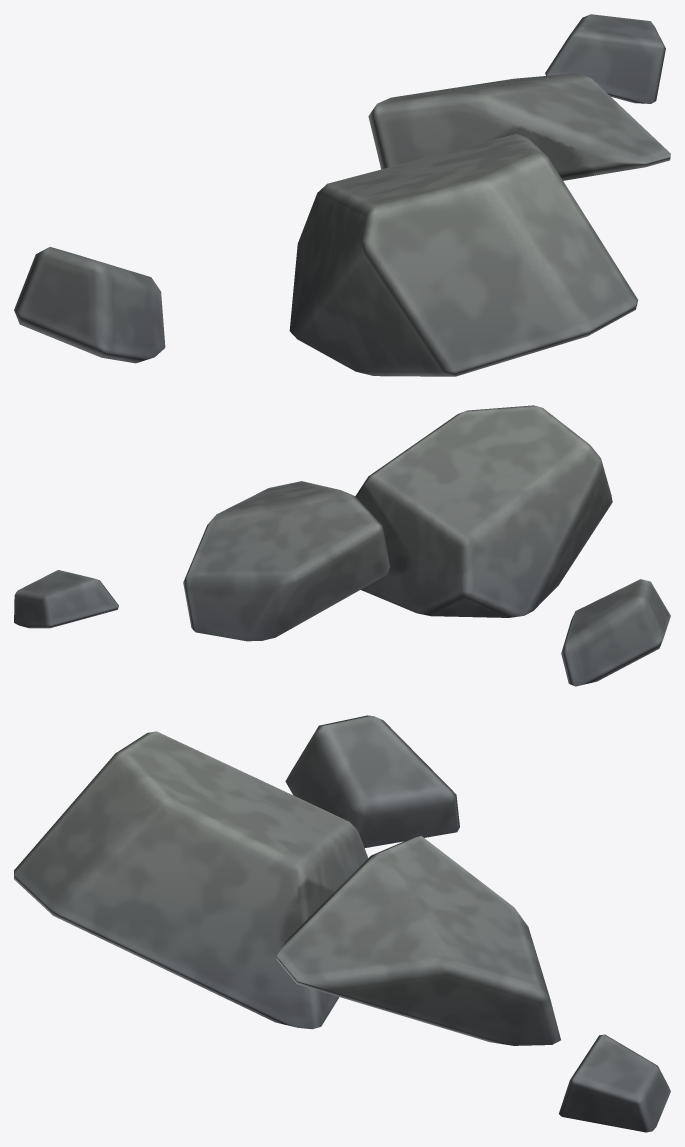
File: rubble_3.glb
3 views of the same model, one above another, from view 1: azimuth 30°, elevation 25°; view 2: azimuth 150°, elevation 25°; view 3: azimuth 270°, elevation 25° (orthographic). The views are drawn at different scales.
Parts seen in each view (by area): view 1: rubble_3; view 2: rubble_3; view 3: rubble_3.
Boxes of the visible parts, x1=… form: rubble_3: x1=14, y1=14, x2=670, y2=376; rubble_3: x1=14, y1=405, x2=670, y2=686; rubble_3: x1=14, y1=715, x2=670, y2=1132.
Bounding box in the file's own units: 0.44 × 0.11 × 0.36.
Materials: 1 (1 with a texture image).
